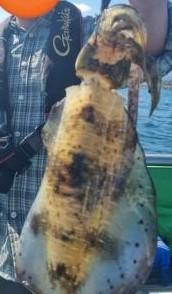Cephalopod: (13, 5, 162, 293)
